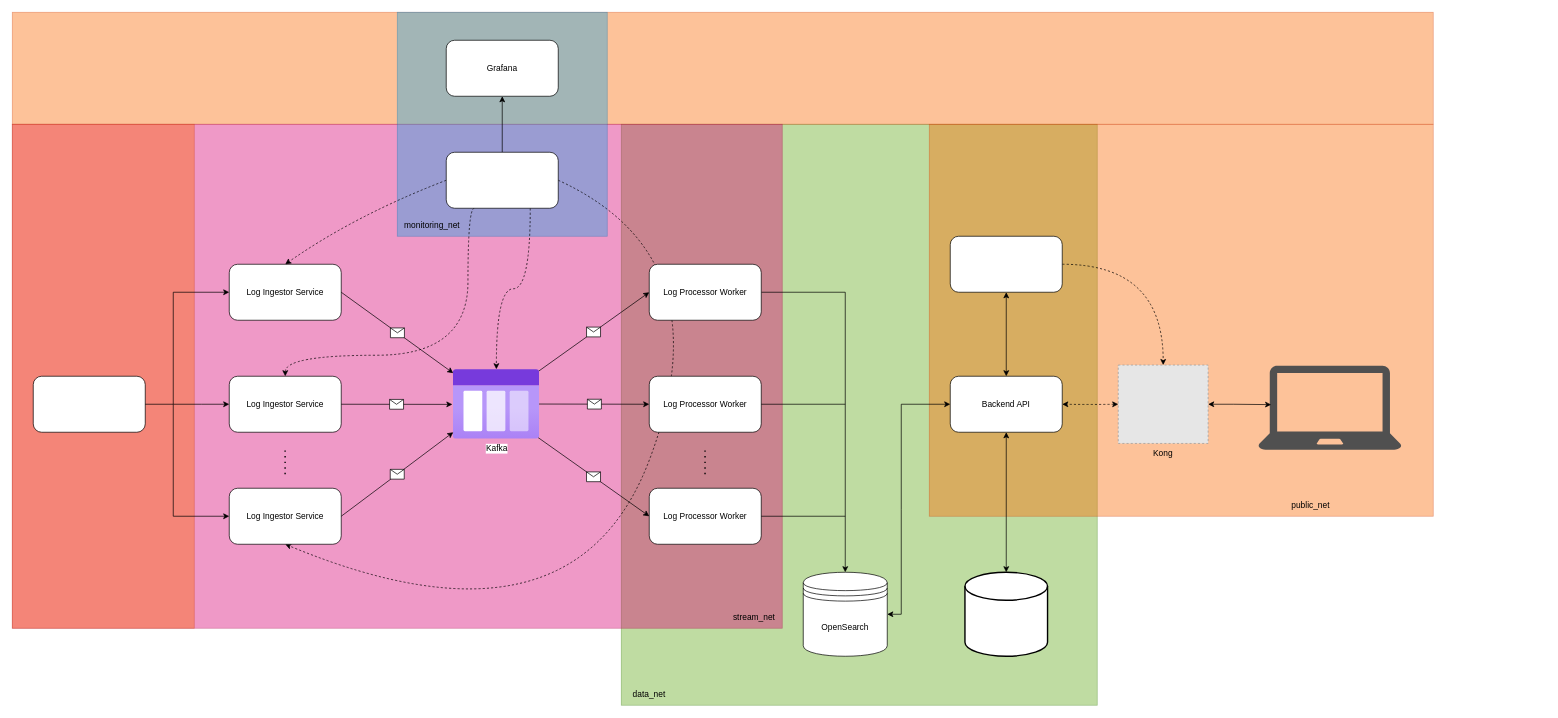
This 1558x718 diagram has some shape labels left out. Grey dashed boxes stand in for pictures. The centre of each missing label's shape, as x and y in pixels:
"Dashboard" belongs at pixel 1329 407.
"Keycloak SSO" belongs at pixel 1006 264.
"Log Generator" belongs at pixel 89 404.
"PostgreSQL" belongs at pixel 1006 614.
"Prometheus" belongs at pixel 502 180.
